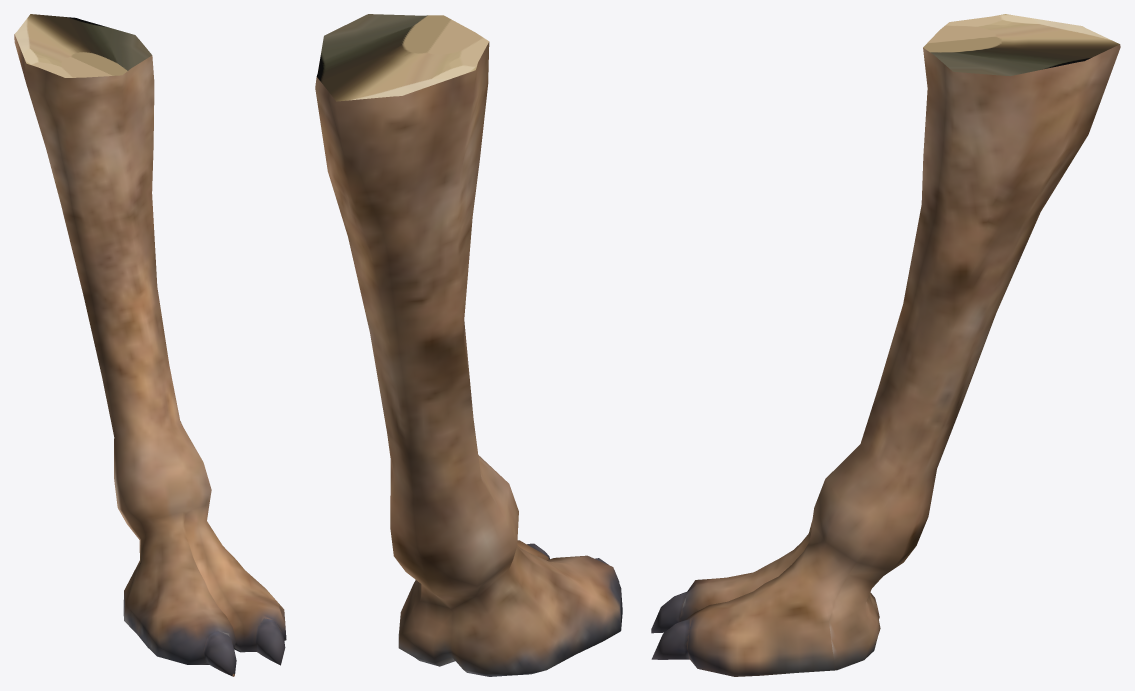
Rendered from TR_Pata.obj.
The picture shows the model from 3 angles, left to right: view 1: azimuth 30°, elevation 25°; view 2: azimuth 150°, elevation 25°; view 3: azimuth 270°, elevation 25°; orthographic projection. The views are drawn at different scales.
Parts seen in each view (by area): view 1: TR_Pata; view 2: TR_Pata; view 3: TR_Pata.
Boxes of the visible parts, bbox=[...] form: TR_Pata: bbox=[14, 14, 286, 676]; TR_Pata: bbox=[315, 14, 622, 676]; TR_Pata: bbox=[651, 14, 1120, 676].
Bounding box in the file's own units: 0.1606 × 0.5632 × 0.4043.
